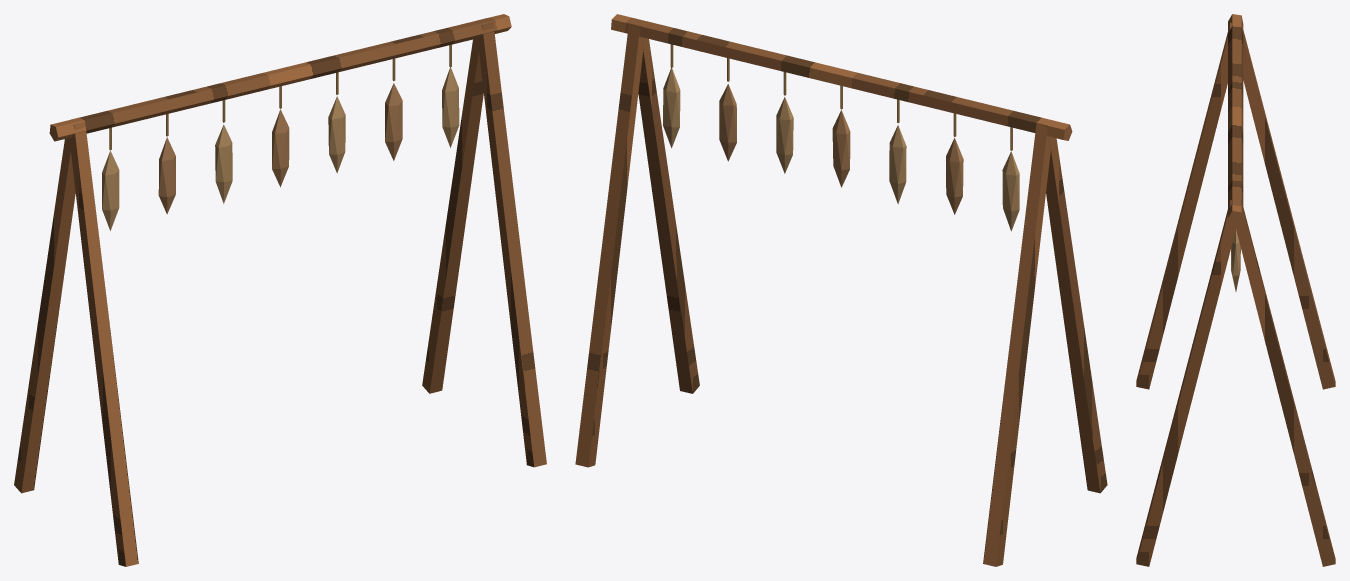
The model's file is drying_rack.glb.
The picture shows the model from 3 angles, left to right: view 1: azimuth 30°, elevation 25°; view 2: azimuth 150°, elevation 25°; view 3: azimuth 270°, elevation 25°; orthographic projection. The views are drawn at different scales.
Visible parts, largest first — view 1: drying_rack; view 2: drying_rack; view 3: drying_rack.
Boxes of the visible parts, <box> form: drying_rack: <box>14,14,546,566</box>; drying_rack: <box>575,14,1107,566</box>; drying_rack: <box>1136,14,1335,566</box>.
Size of the model in its own units: 2 by 1.72 by 0.8558.
Materials: 4 (1 with a texture image).
